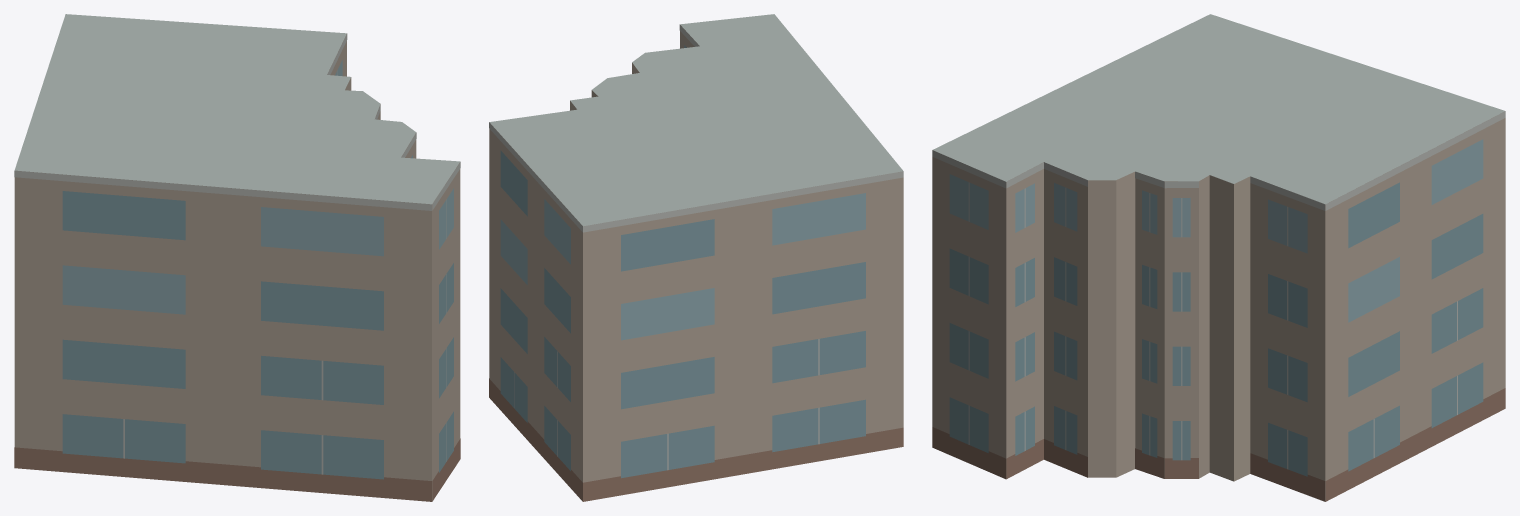
Rendered from survey-upis-32821027.glb.
3 views of the same model, side by side, from view 1: azimuth 30°, elevation 25°; view 2: azimuth 150°, elevation 25°; view 3: azimuth 270°, elevation 25° (orthographic). The views are drawn at different scales.
Visible parts, largest first — view 1: survey-upis-32821027.tmp; view 2: survey-upis-32821027.tmp; view 3: survey-upis-32821027.tmp.
Boxes of the visible parts, bbox=[...] form: survey-upis-32821027.tmp: bbox=[14, 14, 460, 501]; survey-upis-32821027.tmp: bbox=[489, 14, 903, 501]; survey-upis-32821027.tmp: bbox=[932, 14, 1505, 501].
Bounding box in the file's own units: 14.83 × 10.8 × 18.87.
